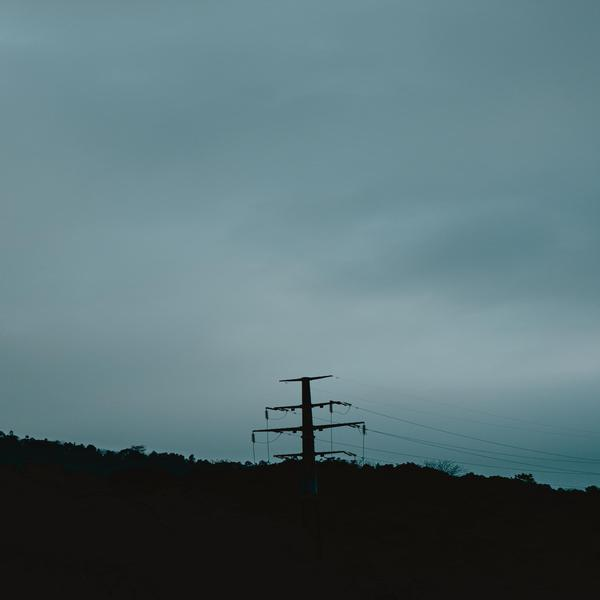utility_pole: (247, 367, 371, 479)
